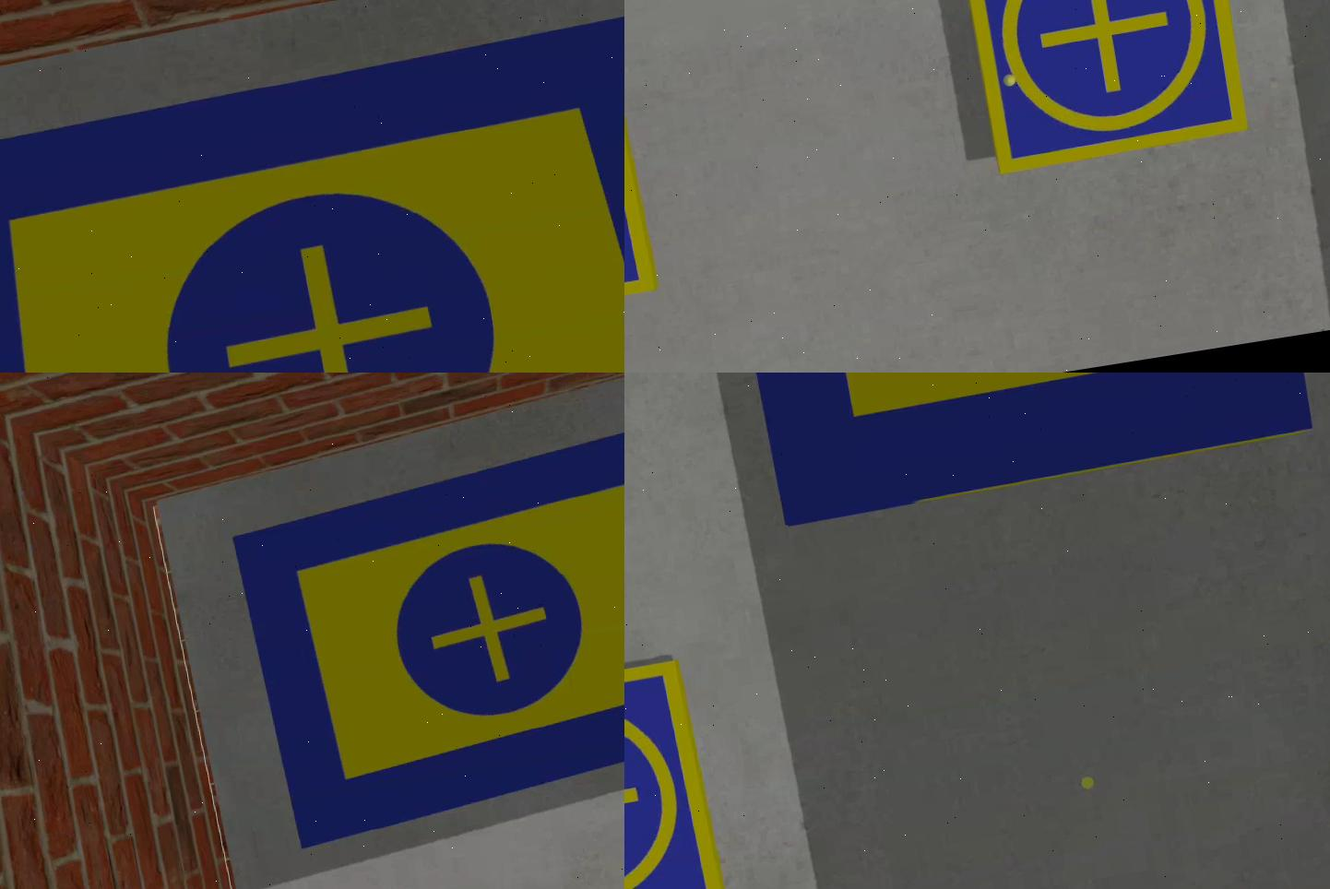large_base: (1, 1, 625, 373), (227, 416, 625, 851), (752, 373, 1324, 527)
small_base: (956, 1, 1255, 179), (625, 651, 726, 889)
